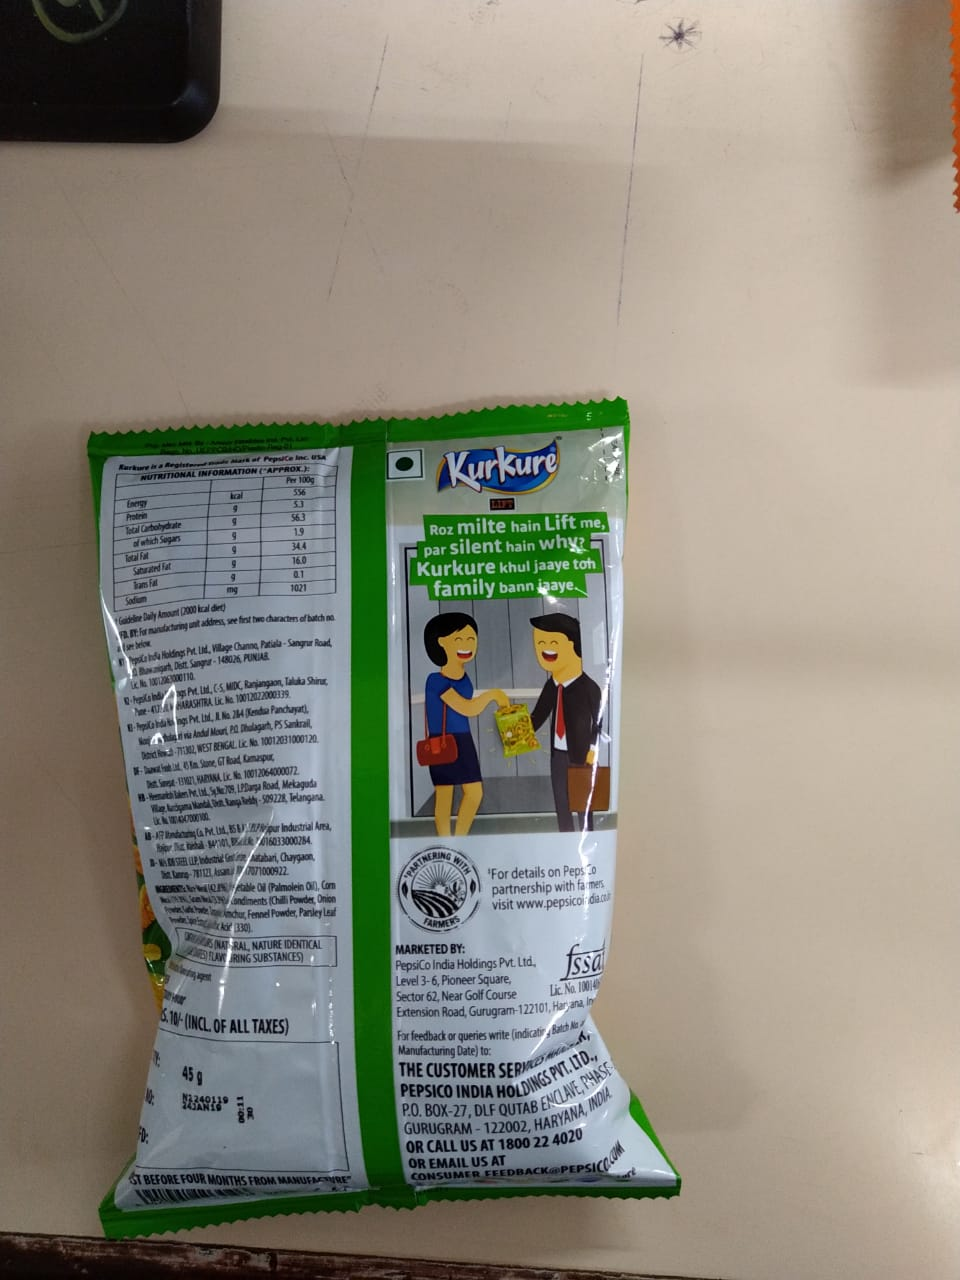kurkure: (370, 432, 604, 531), (435, 432, 572, 511)
plastic: (88, 377, 700, 1255)
wrapper: (76, 409, 684, 1223)
